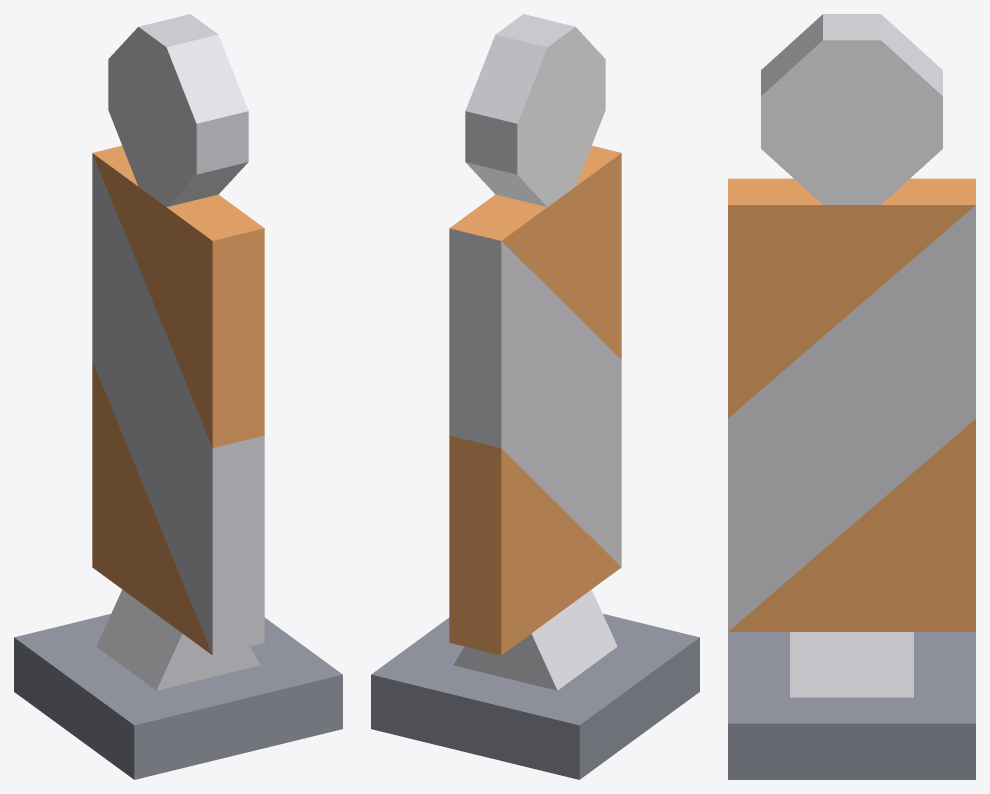
Rendered from construction_light.gltf.
3 renders of one model, left to right at view 1: azimuth 30°, elevation 25°; view 2: azimuth 150°, elevation 25°; view 3: azimuth 270°, elevation 25°, orthographic. The views are drawn at different scales.
Parts seen in each view (by area): view 1: construction_light; view 2: construction_light; view 3: construction_light.
Boxes of the visible parts, box(x1,y1,x2,y2) form: construction_light: box(14, 14, 342, 779); construction_light: box(371, 14, 699, 779); construction_light: box(728, 14, 975, 779).
Size of the model in its own units: 0.075 by 0.2338 by 0.075.
